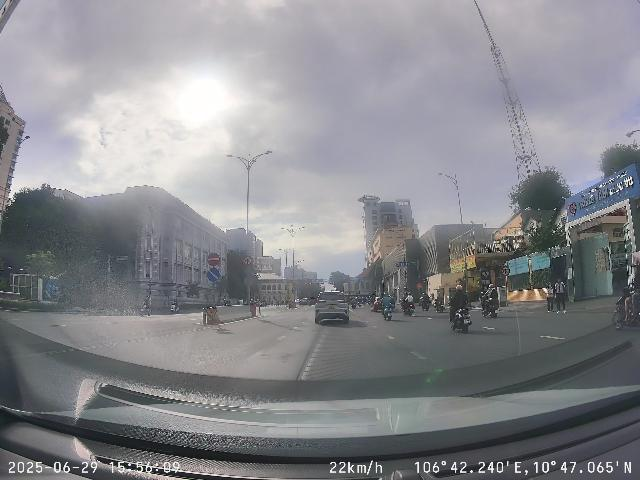102-cam-di-nguoc-chieu: (207, 253, 220, 266)
124b-cam-oto-quay-dau-xe: (501, 266, 510, 276), (243, 256, 252, 265)
302a-huong-phai-di-vong-chuong-ngai-vat-1: (207, 268, 220, 282)
